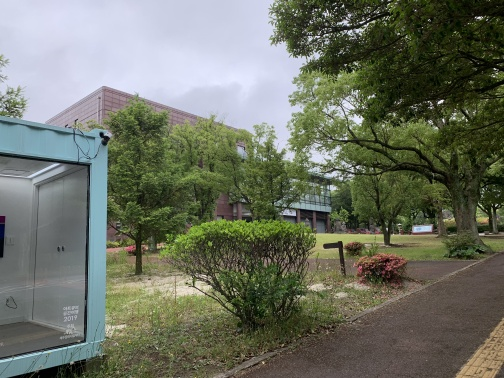Museum: (280, 162, 362, 241)
